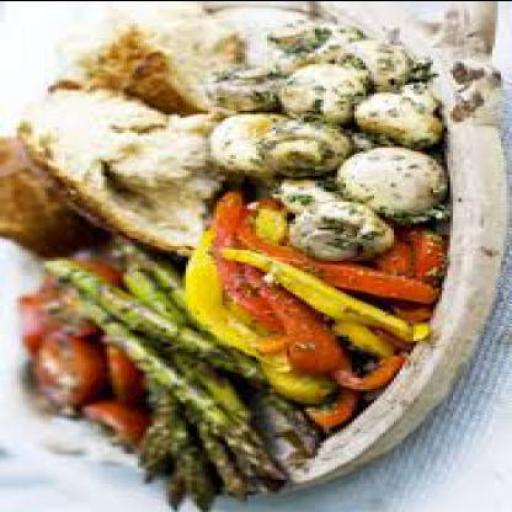biodegradable: (39, 262, 324, 458), (85, 300, 287, 494), (65, 299, 244, 501), (14, 80, 216, 256), (53, 2, 225, 115), (231, 217, 439, 297), (180, 226, 284, 360), (0, 139, 107, 262), (258, 267, 431, 341), (132, 373, 214, 511), (329, 144, 445, 226), (205, 191, 259, 327), (282, 202, 394, 262), (34, 262, 117, 336), (349, 83, 439, 148), (276, 63, 366, 124), (262, 18, 360, 74), (253, 121, 349, 176), (31, 334, 101, 408), (210, 112, 284, 180), (326, 36, 414, 92), (110, 236, 184, 291), (198, 68, 281, 115), (119, 269, 183, 328), (253, 360, 332, 406), (81, 400, 138, 454), (16, 361, 70, 417), (374, 303, 433, 354), (267, 176, 341, 215), (330, 356, 400, 391), (104, 345, 141, 408), (301, 389, 355, 429), (330, 321, 388, 358), (402, 228, 442, 278), (14, 292, 43, 354), (372, 240, 414, 276), (197, 36, 239, 70), (236, 199, 267, 221)
